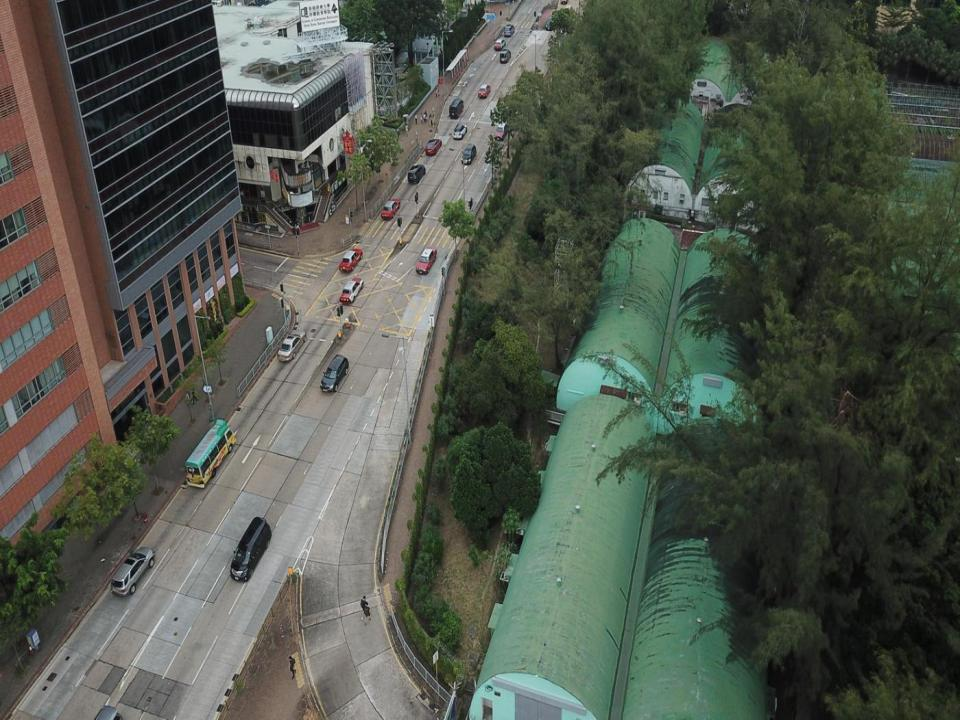bus: (186, 418, 236, 489)
car: (111, 548, 154, 596), (320, 354, 348, 392), (278, 330, 307, 363), (339, 277, 364, 303), (338, 248, 363, 272), (416, 248, 437, 273), (382, 199, 400, 220), (495, 117, 510, 140), (462, 144, 476, 166), (425, 139, 442, 155), (453, 123, 467, 140), (478, 84, 490, 98), (546, 15, 556, 31), (503, 24, 515, 37), (494, 38, 505, 52)
van: (230, 515, 272, 582), (407, 164, 425, 184), (449, 99, 464, 118), (500, 48, 511, 62)
